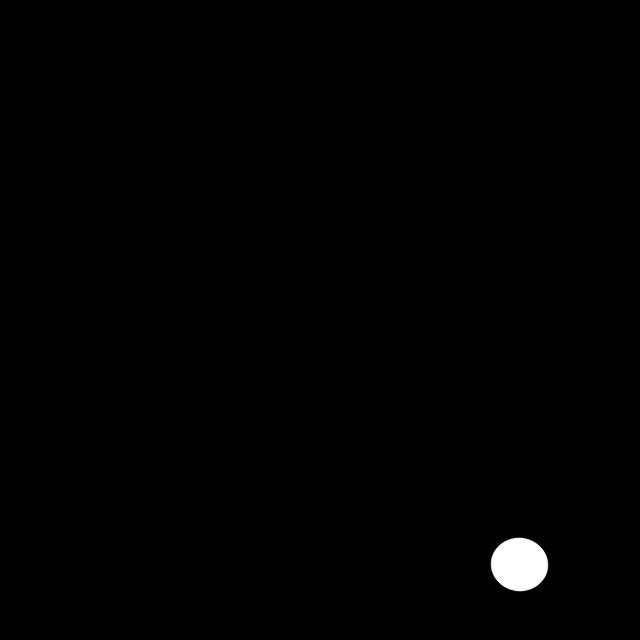Circle: (482, 532, 556, 597)
